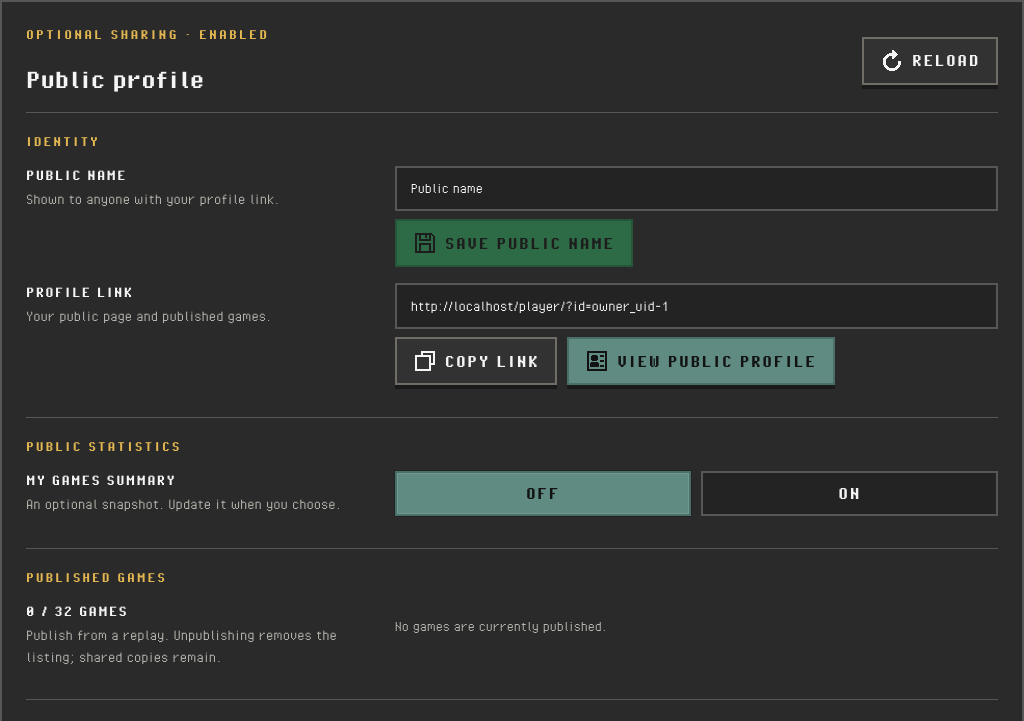
Test case: public profile routes and controls › allows a fully loaded zero-game record as an explicit snapshot
What coordinates should you click on to do the following:
click the button "On"
I would click on:
 (850, 494)
Its box is left=701, top=471, right=998, bottom=516.
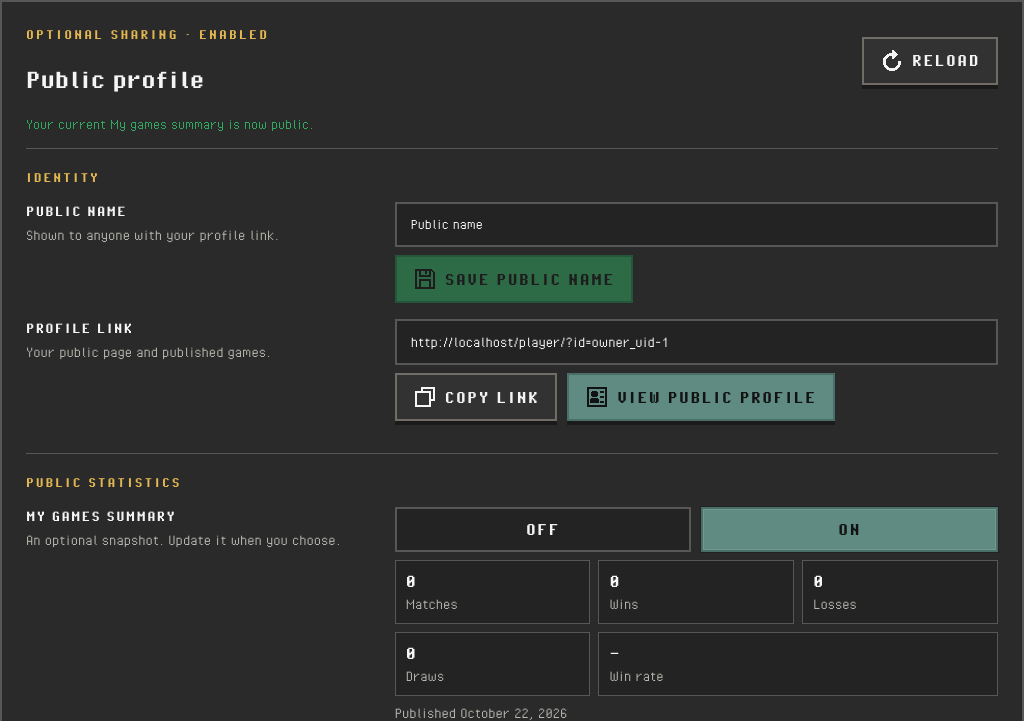
expect the text "—" is shown: met, box left=610, top=643, right=620, bottom=663
